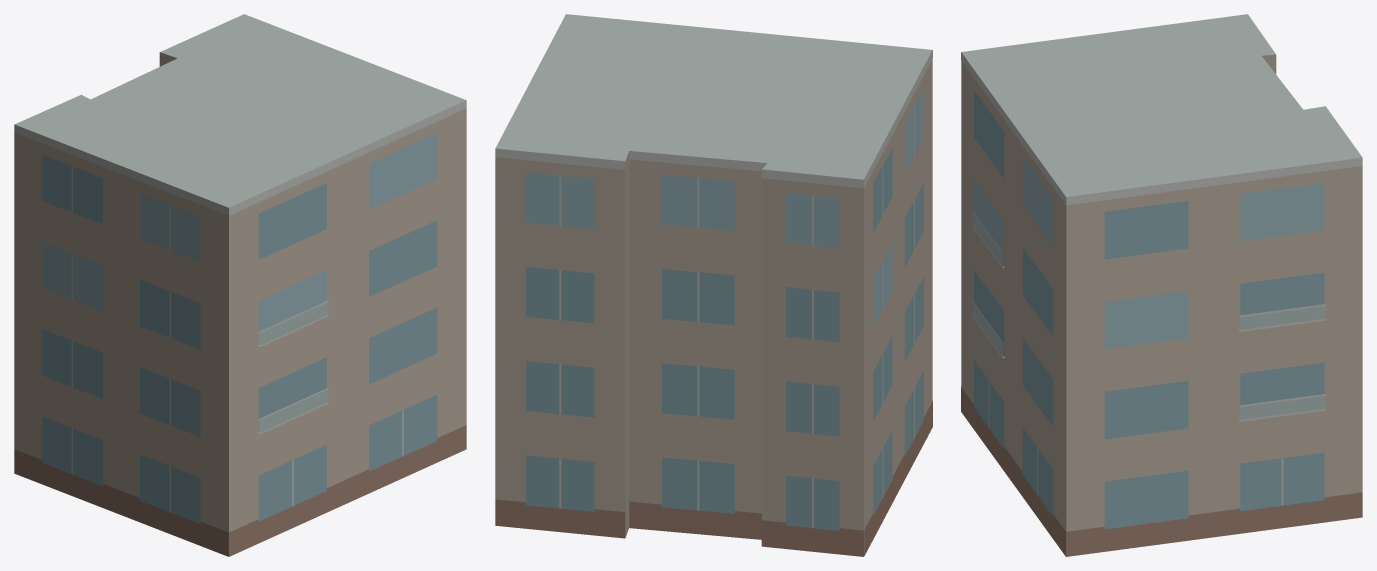
The model's file is survey-upis-32954753.glb.
3 renders of one model, left to right at view 1: azimuth 30°, elevation 25°; view 2: azimuth 150°, elevation 25°; view 3: azimuth 270°, elevation 25°, orthographic. The views are drawn at different scales.
Visible parts, largest first — view 1: survey-upis-32954753.tmp; view 2: survey-upis-32954753.tmp; view 3: survey-upis-32954753.tmp.
Boxes of the visible parts, x1,y1,x2,y2 form: survey-upis-32954753.tmp: (14, 14, 466, 556); survey-upis-32954753.tmp: (495, 14, 932, 556); survey-upis-32954753.tmp: (961, 14, 1362, 556).
Bounding box in the file's own units: 11.58 × 10.6 × 10.73.
